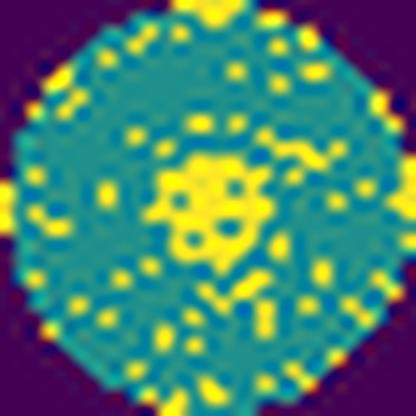Center: (139, 152, 282, 281)
